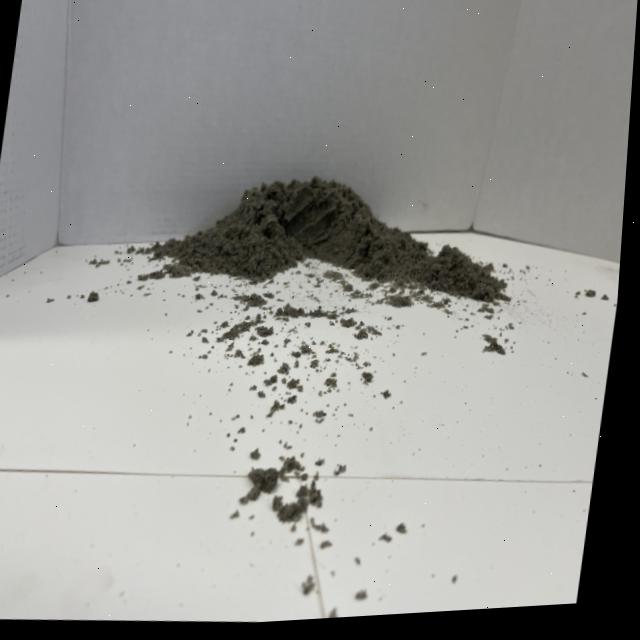sand: (161, 139, 469, 305)
